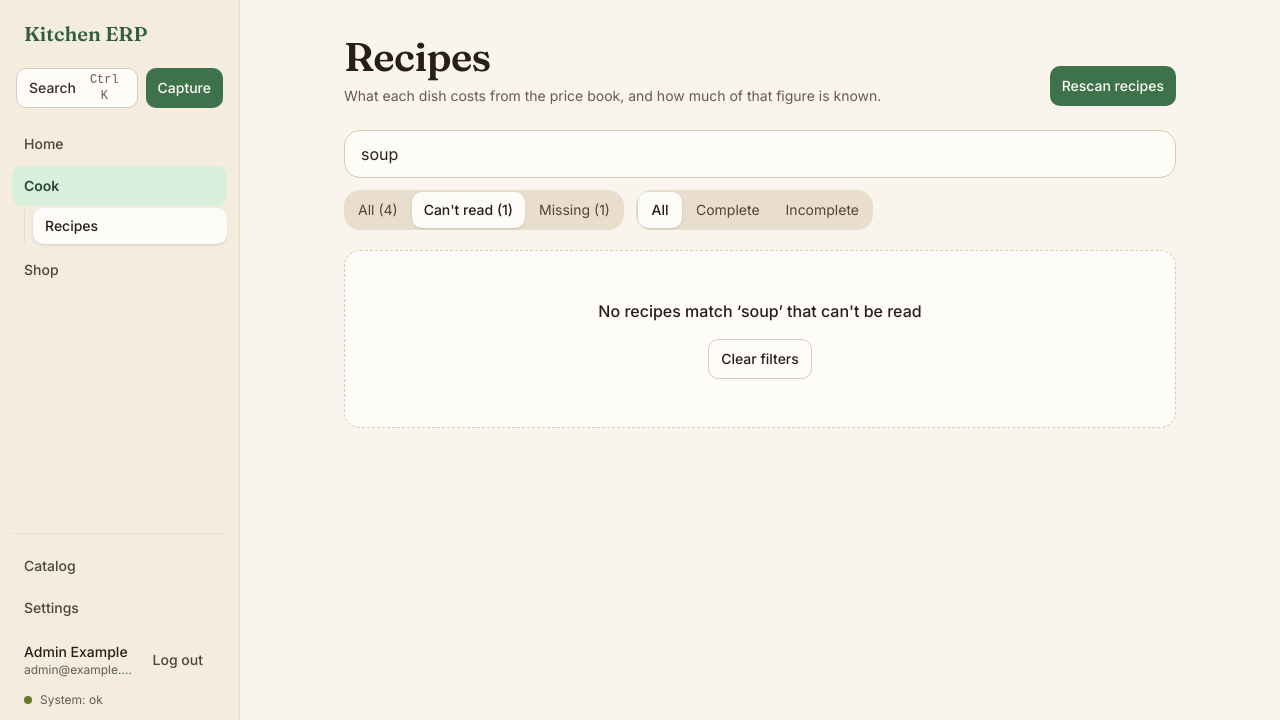
Scenario: the list's states (UI-7.5, UI-7.6) › says what a filtered-empty list filtered, and Clear filters clears the URL
Click the button "Clear filters" at (760, 359), box [708,339,812,379]
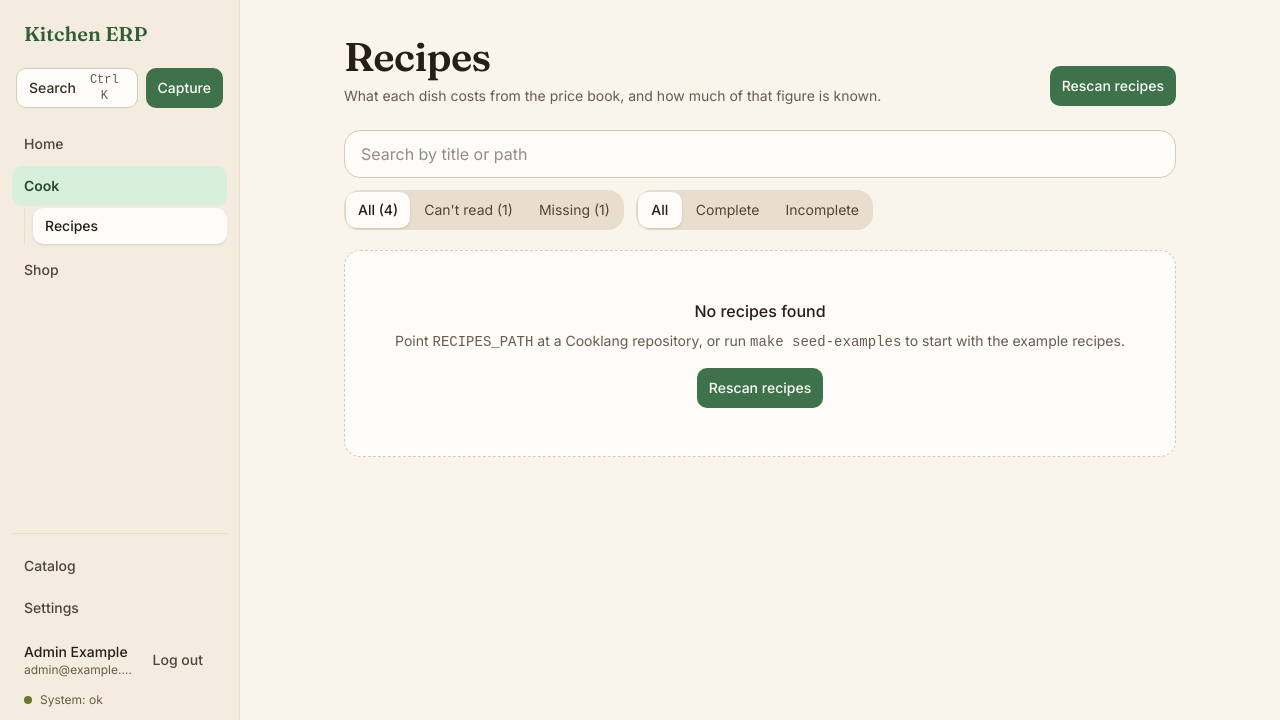
Result: the field named "Search recipes" is empty at [344,130,1176,178]
